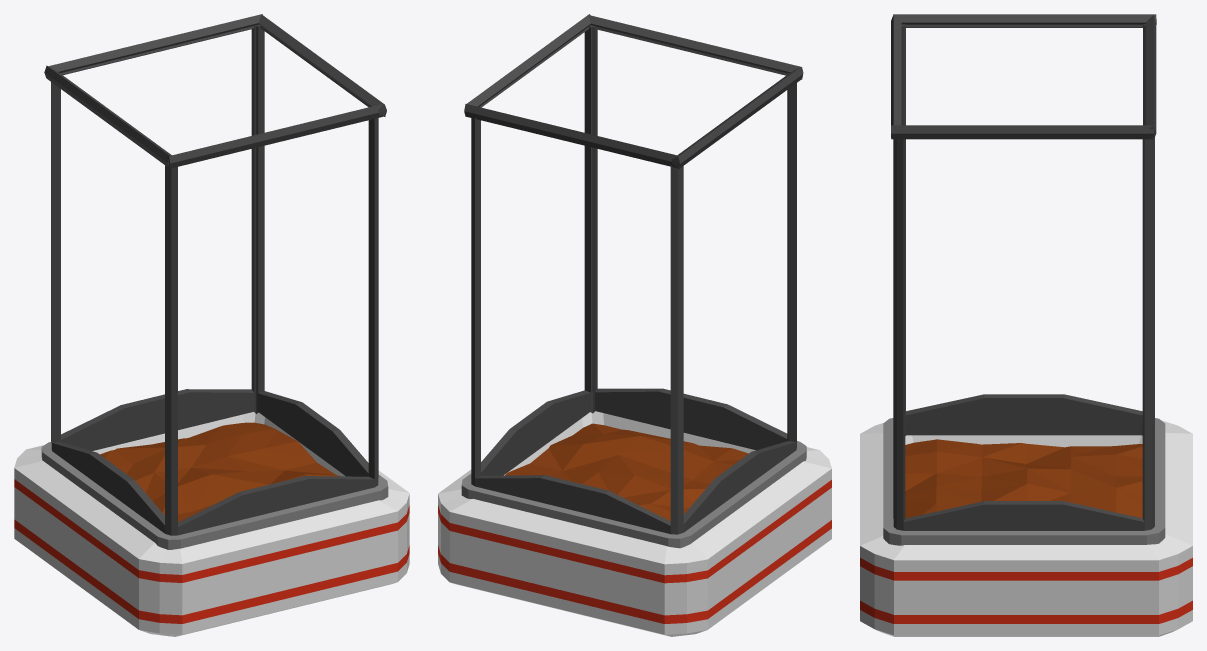
Rendered from Tree Crop Plot.fbx.
3 renders of one model, left to right at view 1: azimuth 30°, elevation 25°; view 2: azimuth 150°, elevation 25°; view 3: azimuth 270°, elevation 25°, orthographic. The views are drawn at different scales.
Parts seen in each view (by area): view 1: Cube.020; view 2: Cube.020; view 3: Cube.020.
Boxes of the visible parts, left/top/right/bottom form: Cube.020: left=14, top=14, right=409, bottom=636; Cube.020: left=438, top=14, right=831, bottom=636; Cube.020: left=860, top=14, right=1192, bottom=636.
Bounding box in the file's own units: 381 × 642 × 381.
